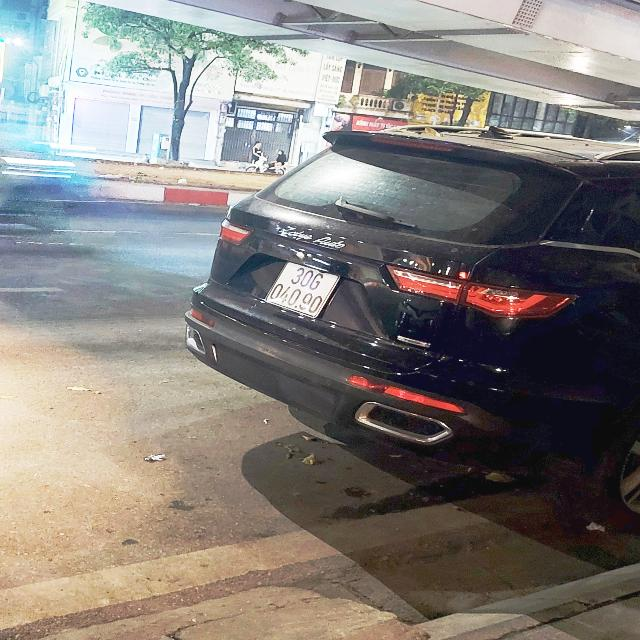license_plate: (267, 264, 339, 317)
